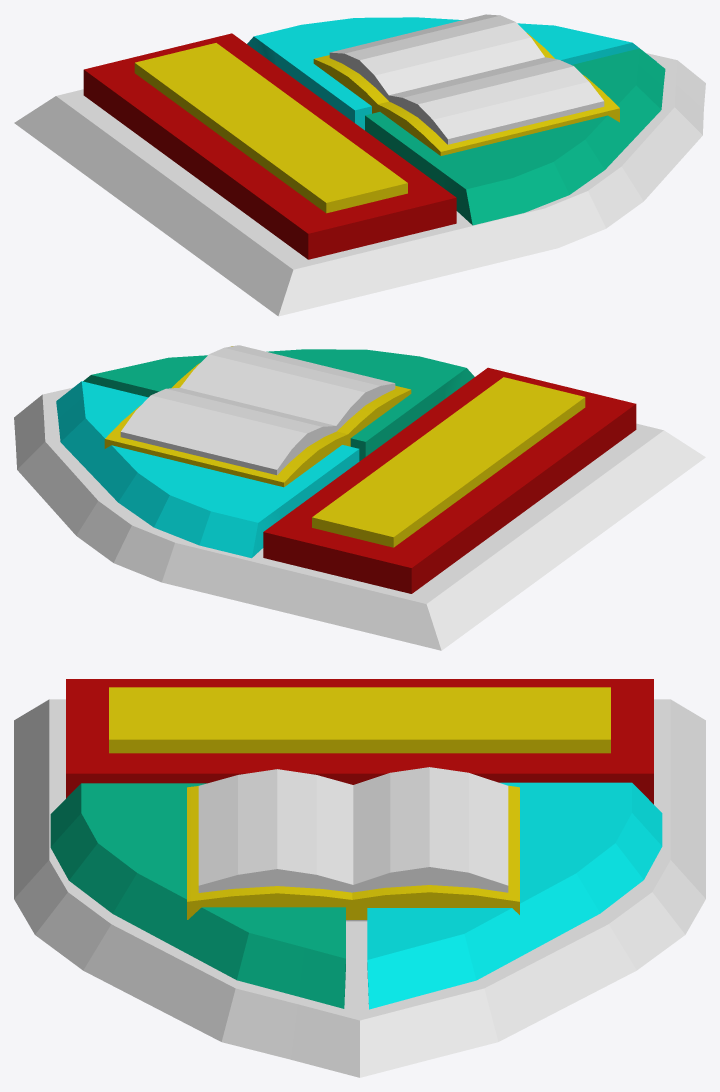
The model's file is xiaohui.fbx.
3 renders of one model, top to bottom at view 1: azimuth 30°, elevation 25°; view 2: azimuth 150°, elevation 25°; view 3: azimuth 270°, elevation 25°, orthographic. The views are drawn at different scales.
Parts seen in each view (by area): view 1: polySurface3, pCube1, polySurface5, pCube2, pCube3, polySurface4, pCube4, pCube6, pCube5; view 2: polySurface3, pCube1, polySurface4, pCube2, pCube4, polySurface5, pCube3, pCube5, pCube6; view 3: polySurface3, pCube2, polySurface4, polySurface5, pCube1, pCube4, pCube3, pCube5, pCube6.
Boxes of the visible parts, box(x1,y1,x2,y2) form: polySurface3: box(14, 53, 705, 316); pCube1: box(83, 33, 456, 259); polySurface5: box(365, 48, 665, 225); pCube2: box(134, 43, 407, 213); pCube3: box(387, 57, 604, 144); polySurface4: box(247, 17, 656, 130); pCube4: box(329, 14, 544, 99); pCube6: box(371, 75, 619, 155); pCube5: box(313, 32, 554, 113); polySurface3: box(14, 387, 705, 650); pCube1: box(263, 367, 636, 593); polySurface4: box(56, 381, 359, 558); pCube2: box(312, 377, 585, 547); pCube4: box(120, 387, 337, 475); polySurface5: box(83, 349, 474, 461); pCube3: box(180, 345, 395, 430); pCube5: box(104, 405, 347, 487); pCube6: box(171, 346, 411, 446); polySurface3: box(14, 699, 705, 1077); pCube2: box(109, 687, 610, 753); polySurface4: box(367, 782, 662, 1009); polySurface5: box(50, 783, 345, 1008); pCube1: box(66, 679, 653, 804); pCube4: box(351, 767, 508, 921); pCube3: box(198, 769, 356, 921); pCube5: box(339, 785, 519, 919); pCube6: box(187, 786, 366, 919).
Bounding box in the file's own units: 4.3 × 0.5973 × 3.51.
